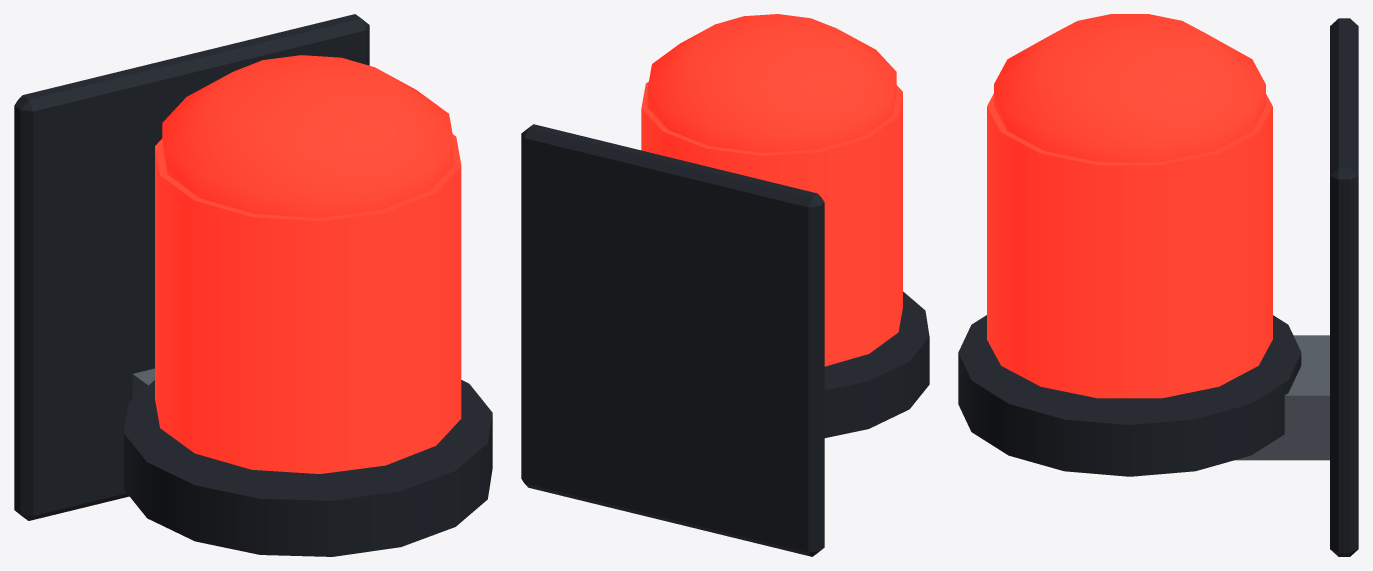
The model's file is alarm_light.glb.
3 views of the same model, side by side, from view 1: azimuth 30°, elevation 25°; view 2: azimuth 150°, elevation 25°; view 3: azimuth 270°, elevation 25° (orthographic). The views are drawn at different scales.
Visible parts, largest first — view 1: beacon, alarm_light; view 2: alarm_light, beacon; view 3: beacon, alarm_light.
Part boxes in pixels (x1,y1,x2,y2): beacon: (155, 55, 461, 473); alarm_light: (14, 14, 492, 556); alarm_light: (521, 124, 929, 556); beacon: (641, 14, 902, 366); beacon: (987, 14, 1272, 398); alarm_light: (958, 18, 1358, 556).
Size of the model in its own units: 0.26 by 0.345 by 0.28.
